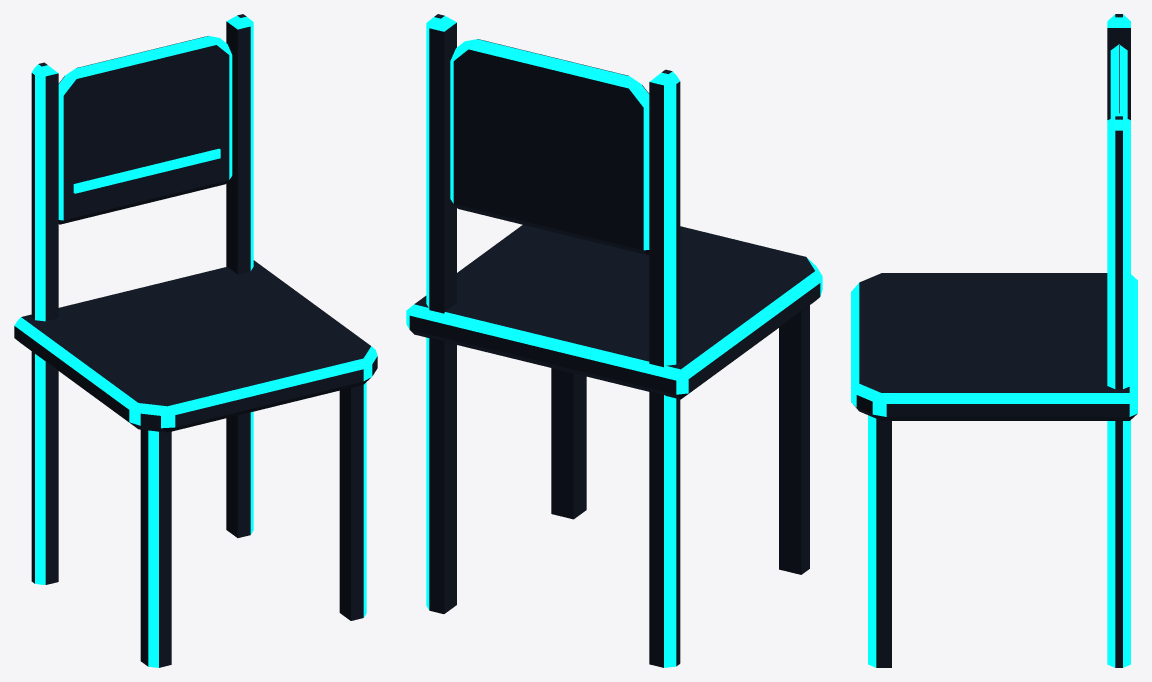
File: neon-grid-chair.glb
3 renders of one model, left to right at view 1: azimuth 30°, elevation 25°; view 2: azimuth 150°, elevation 25°; view 3: azimuth 270°, elevation 25°, orthographic. The views are drawn at different scales.
Parts seen in each view (by area): view 1: NeonGridChair; view 2: NeonGridChair; view 3: NeonGridChair.
Part boxes in pixels (x1,y1,x2,y2): NeonGridChair: [14, 14, 377, 667]; NeonGridChair: [406, 14, 822, 667]; NeonGridChair: [851, 14, 1137, 667].
Size of the model in its own units: 0.44 by 0.88 by 0.42.
